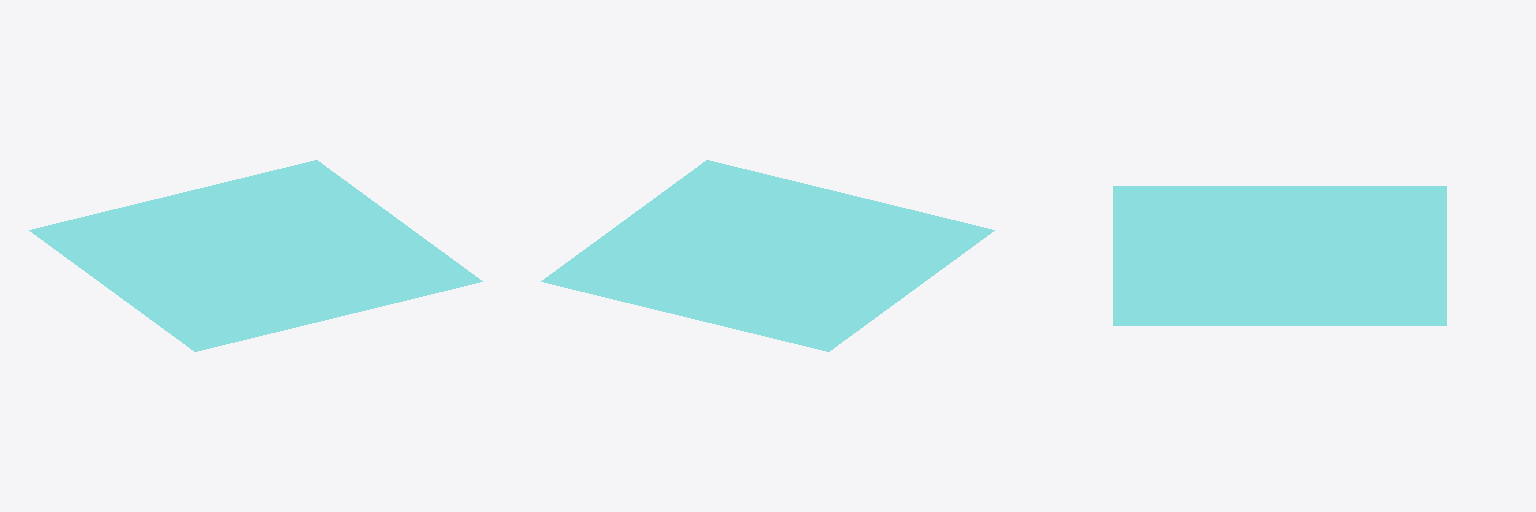
The model's file is water.obj.
The picture shows the model from 3 angles: view 1: azimuth 30°, elevation 25°; view 2: azimuth 150°, elevation 25°; view 3: azimuth 270°, elevation 25°; orthographic projection.
Visible parts, largest first — view 1: water; view 2: water; view 3: water.
Boxes of the visible parts, x1=… form: water: x1=29, y1=160, x2=482, y2=351; water: x1=541, y1=160, x2=994, y2=351; water: x1=1113, y1=186, x2=1446, y2=325.
Bounding box in the file's own units: 500 × 0 × 500.